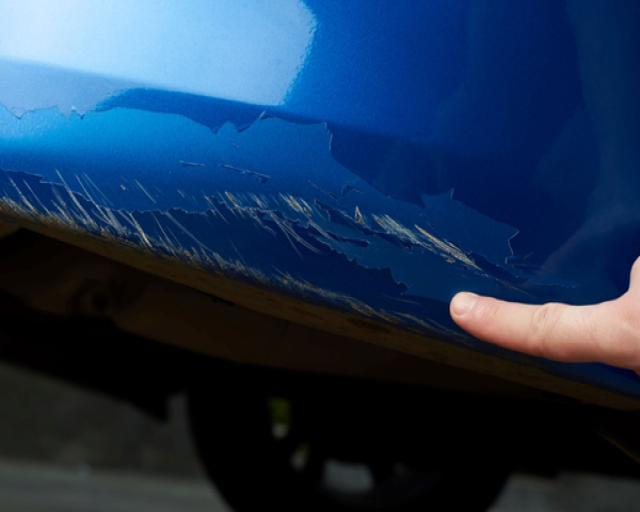scratch: (0, 90, 570, 350)
